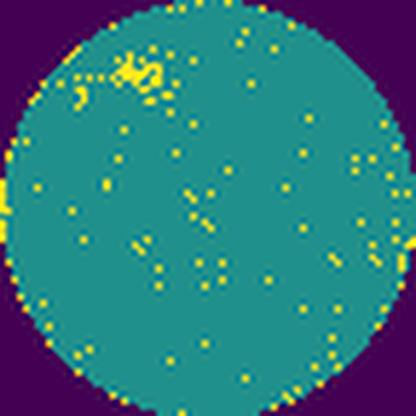Loc: (110, 52, 165, 100)
